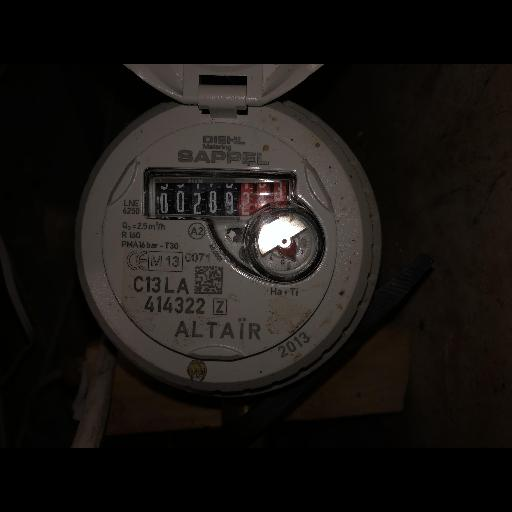0: (173, 182, 190, 216), (155, 183, 172, 216)
1: (255, 182, 272, 213)
2: (238, 183, 255, 217), (189, 183, 205, 216)
3: (271, 180, 289, 203)
8: (205, 183, 222, 217)
9: (221, 182, 237, 216)
border_water_meter_number: (150, 177, 291, 218)
